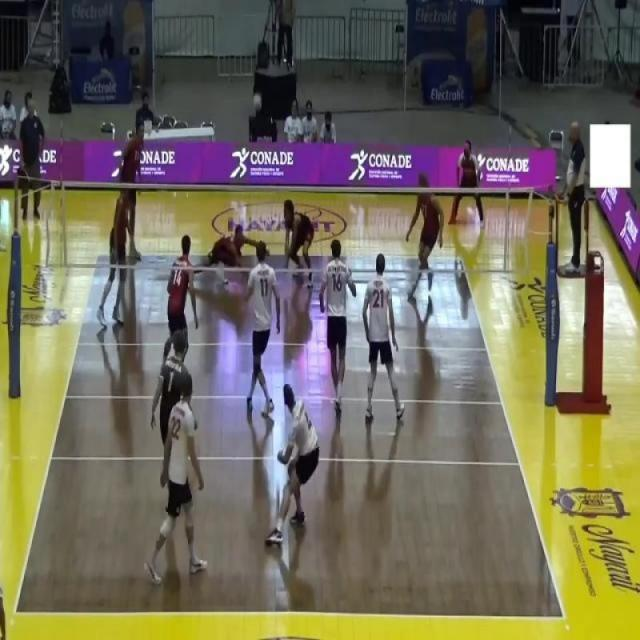volleyball: (252, 92, 263, 110)
